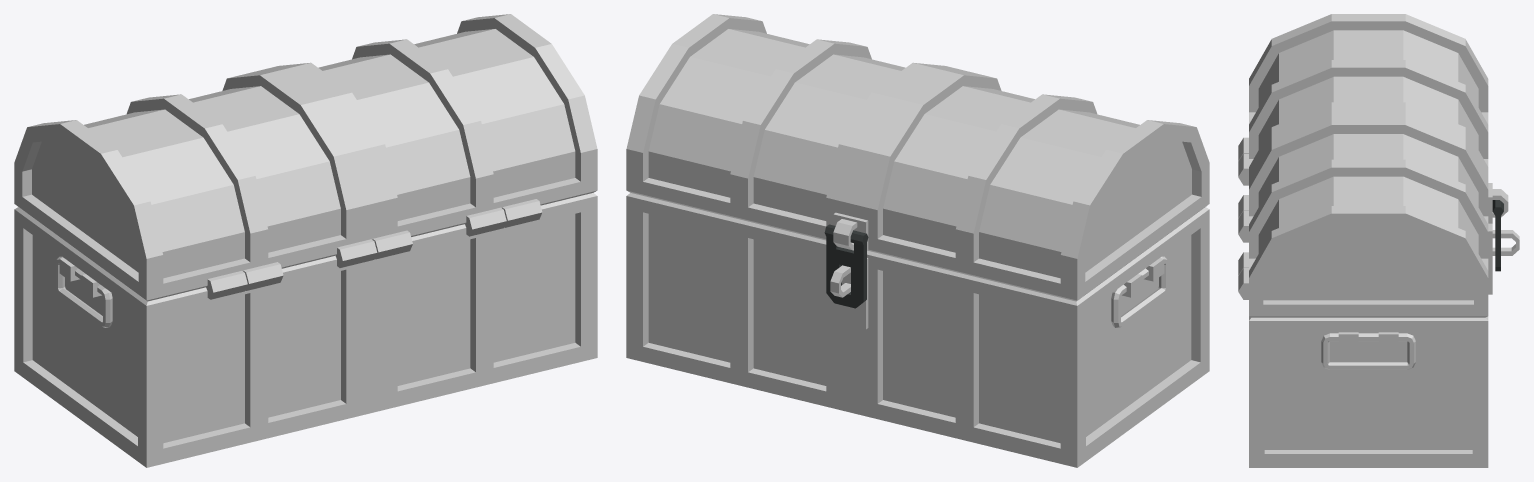
The model's file is NGF_Chest_01.fbx.
The picture shows the model from 3 angles, left to right: view 1: azimuth 30°, elevation 25°; view 2: azimuth 150°, elevation 25°; view 3: azimuth 270°, elevation 25°; orthographic projection. The views are drawn at different scales.
Visible parts, largest first — view 1: NGF_Lid_of_the_chest_01, NGF_Chest_01, NGF_Chest_handle_02; view 2: NGF_Lid_of_the_chest_01, NGF_Chest_01, NGF_Chest_lock_01, NGF_Chest_handle_02; view 3: NGF_Lid_of_the_chest_01, NGF_Chest_01, NGF_Chest_handle_01, NGF_Chest_lock_01.
Part boxes in pixels (<box>): NGF_Lid_of_the_chest_01: <box>14,14,597,301</box>; NGF_Chest_01: <box>14,193,597,467</box>; NGF_Chest_handle_02: <box>55,256,112,327</box>; NGF_Lid_of_the_chest_01: <box>626,14,1209,301</box>; NGF_Chest_01: <box>626,193,1209,467</box>; NGF_Chest_lock_01: <box>824,224,868,308</box>; NGF_Chest_handle_02: <box>1111,256,1168,327</box>; NGF_Lid_of_the_chest_01: <box>1238,14,1508,317</box>; NGF_Chest_01: <box>1238,153,1519,467</box>; NGF_Chest_handle_01: <box>1321,333,1415,369</box>; NGF_Chest_lock_01: <box>1492,200,1503,271</box>.
Size of the model in its own units: 1.8 by 1.05 by 1.05.
1 material, 1 textured.
